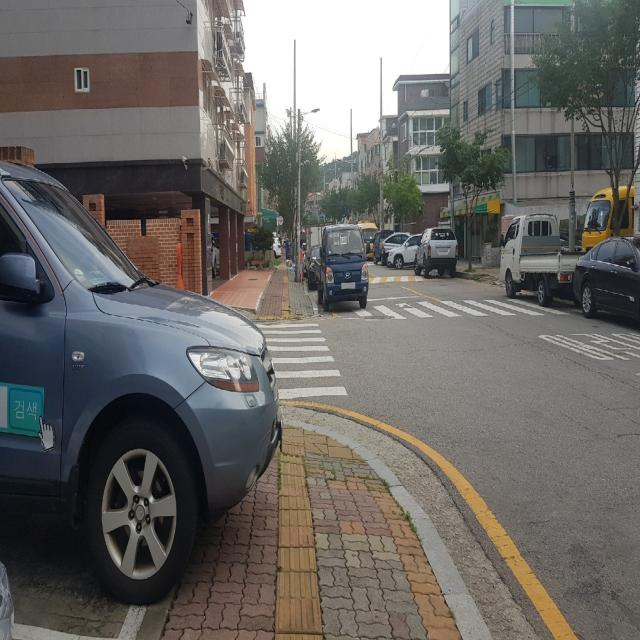횡단보도: (254, 322, 348, 398), (344, 296, 554, 330)
